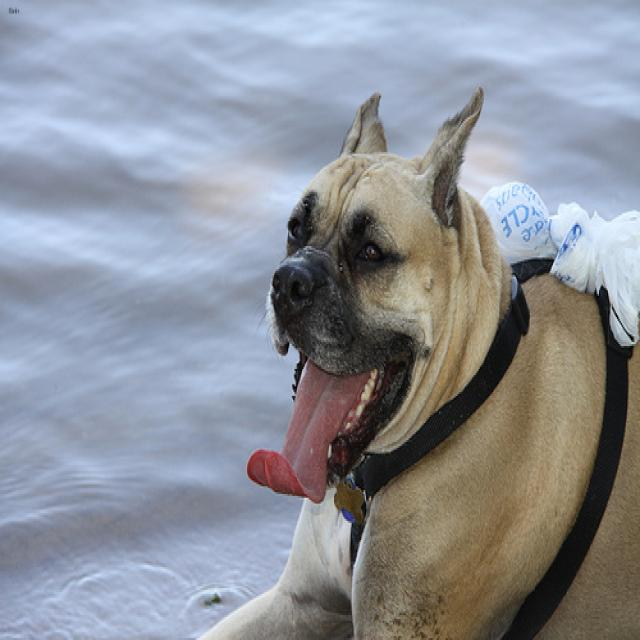dog: (246, 84, 481, 502)
